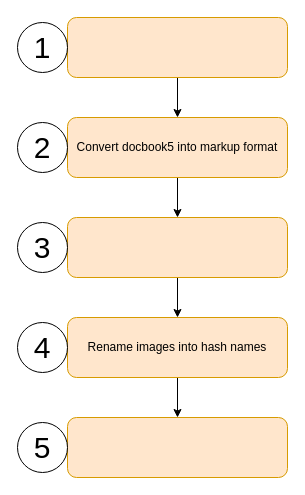
Some shapes in this 305 by 495 pixel diagram are drawn without their labels. The shapes that lost their labels are listed below. From the top down, each one's box as (x1, y1, x2, y2) in pixels, then its label:
(66, 16, 288, 78): Convert asciidoc into docbook5 format
(66, 216, 288, 278): Copy the used images into the build directory
(66, 416, 288, 478): Rename images in the markup file
